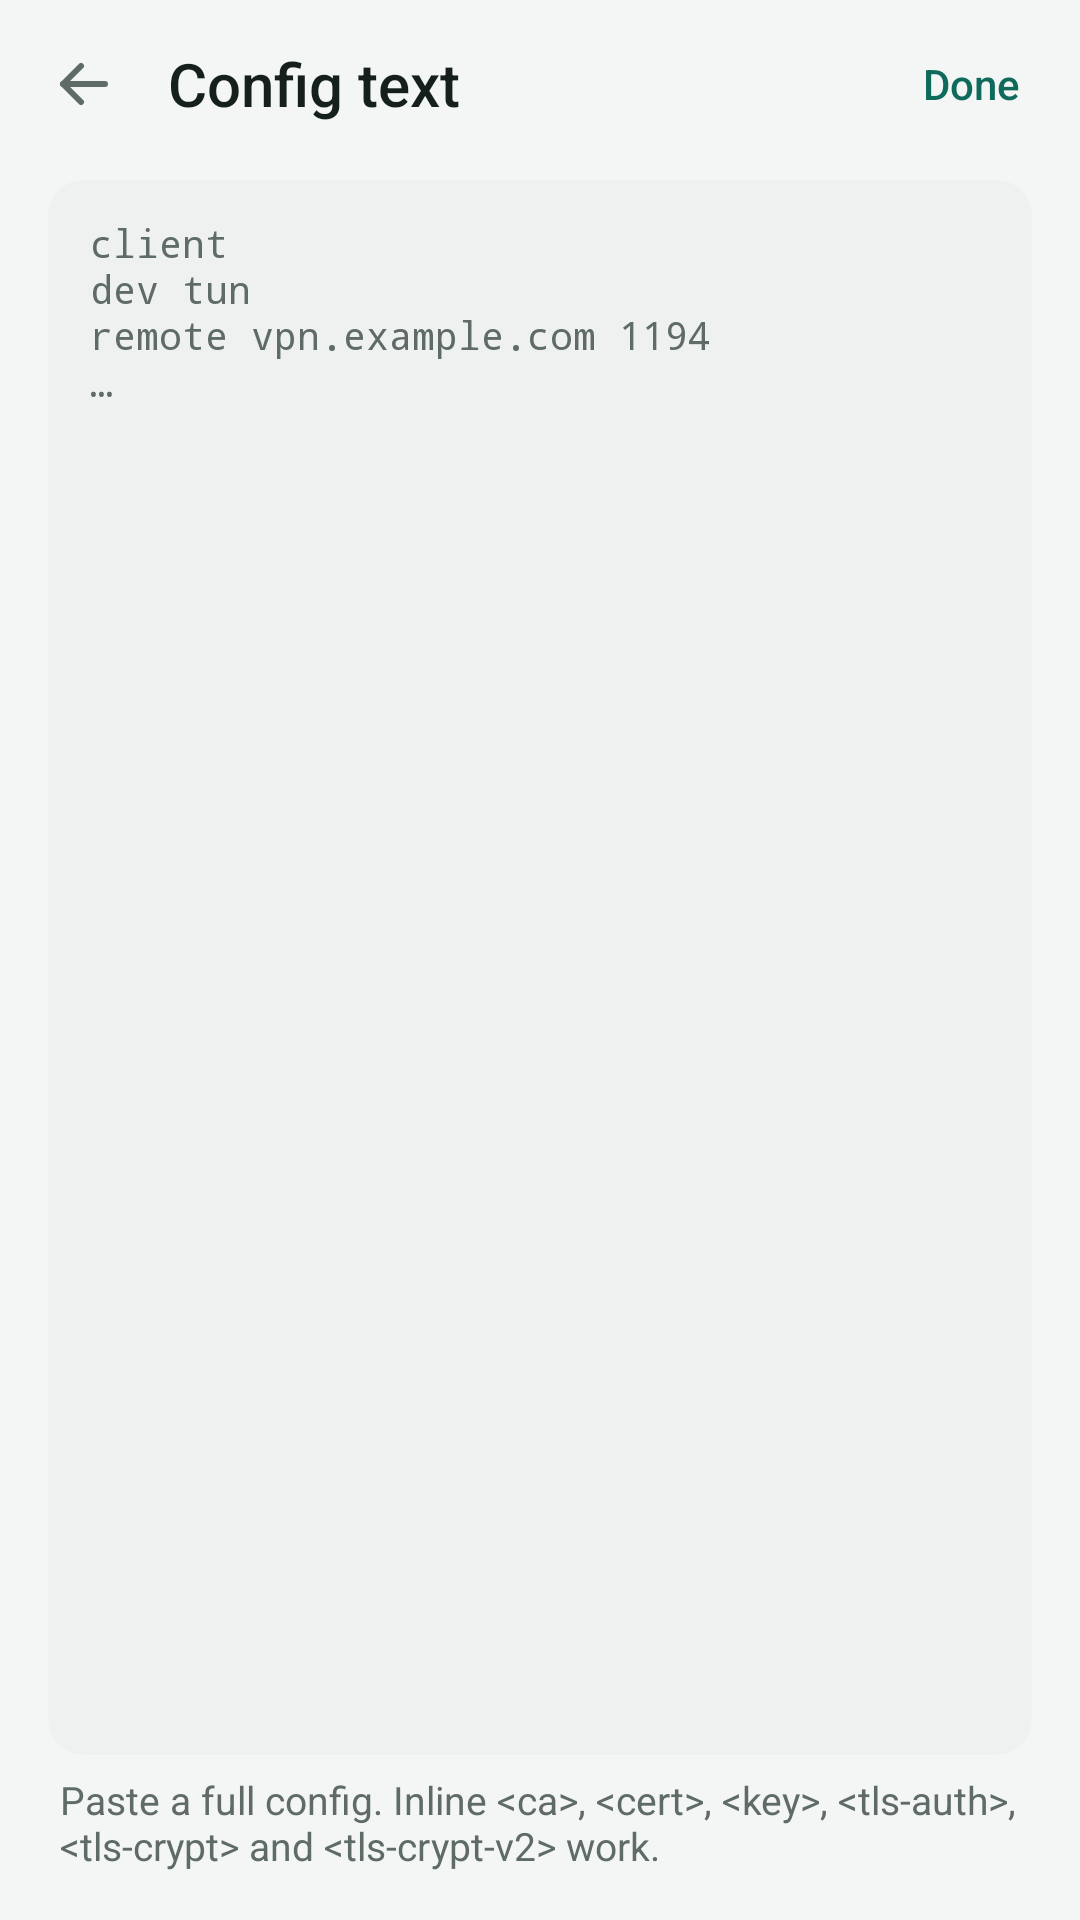

Where to tap for icons on this 1080×1920 app screen, as (x=x, y=y):
Back: (x=84, y=84)
